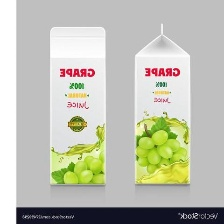carton: (46, 22, 113, 188), (129, 20, 193, 188)
